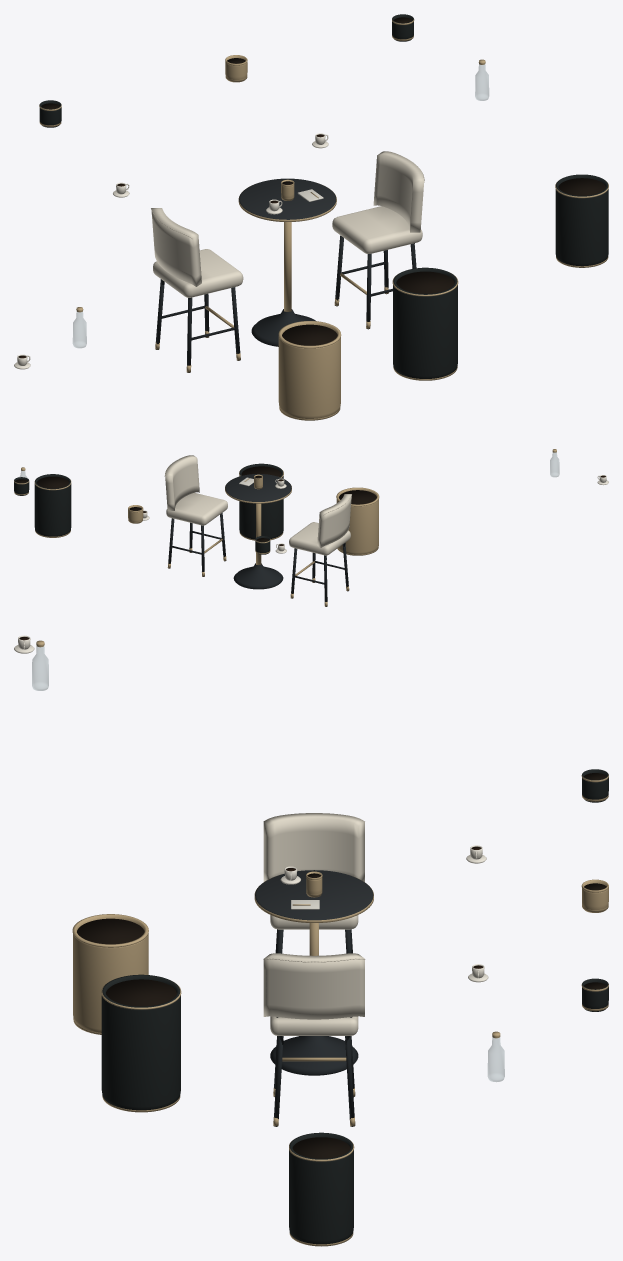
The model's file is projection-interior-details-v8.glb.
The picture shows the model from 3 angles, top to bottom: view 1: azimuth 30°, elevation 25°; view 2: azimuth 150°, elevation 25°; view 3: azimuth 270°, elevation 25°; orthographic projection. The views are drawn at different scales.
Parts seen in each view (by area): view 1: Projection Interior V8 | black satin ceramic planter body, Projection Interior V8 | ivory woven upholstery, Projection Interior V8 | soft satin champagne metal details, Projection Interior V8 | matte black architectural slender s, Projection Interior V8 | dark granular planting soil, Projection Interior V8 | polished black stone tabletop, Projection Interior V8 | clear glass drinking vessels, Projection Interior V8 | warm ivory porcelain cups; view 2: Projection Interior V8 | ivory woven upholstery, Projection Interior V8 | black satin ceramic planter body, Projection Interior V8 | soft satin champagne metal details, Projection Interior V8 | matte black architectural slender s, Projection Interior V8 | polished black stone tabletop, Projection Interior V8 | dark granular planting soil, Projection Interior V8 | warm ivory porcelain cups, Projection Interior V8 | clear glass drinking vessels; view 3: Projection Interior V8 | black satin ceramic planter body, Projection Interior V8 | ivory woven upholstery, Projection Interior V8 | soft satin champagne metal details, Projection Interior V8 | dark granular planting soil, Projection Interior V8 | polished black stone tabletop, Projection Interior V8 | matte black architectural slender s, Projection Interior V8 | clear glass drinking vessels, Projection Interior V8 | warm ivory porcelain cups.
Part boxes in pixels (bbox=[...]): Projection Interior V8 | black satin ceramic planter body: bbox=[39, 14, 608, 378]; Projection Interior V8 | ivory woven upholstery: bbox=[151, 151, 424, 297]; Projection Interior V8 | soft satin champagne metal details: bbox=[39, 19, 608, 420]; Projection Interior V8 | matte black architectural slender s: bbox=[155, 235, 416, 372]; Projection Interior V8 | dark granular planting soil: bbox=[41, 17, 605, 345]; Projection Interior V8 | polished black stone tabletop: bbox=[239, 178, 336, 219]; Projection Interior V8 | clear glass drinking vessels: bbox=[72, 64, 489, 348]; Projection Interior V8 | warm ivory porcelain cups: bbox=[14, 133, 328, 369]; Projection Interior V8 | ivory woven upholstery: bbox=[165, 455, 351, 555]; Projection Interior V8 | black satin ceramic planter body: bbox=[14, 463, 283, 554]; Projection Interior V8 | soft satin champagne metal details: bbox=[14, 449, 556, 606]; Projection Interior V8 | matte black architectural slender s: bbox=[168, 513, 348, 606]; Projection Interior V8 | polished black stone tabletop: bbox=[225, 474, 291, 501]; Projection Interior V8 | dark granular planting soil: bbox=[15, 466, 376, 541]; Projection Interior V8 | warm ivory porcelain cups: bbox=[143, 475, 608, 553]; Projection Interior V8 | clear glass drinking vessels: bbox=[19, 452, 559, 478]; Projection Interior V8 | black satin ceramic planter body: bbox=[101, 769, 608, 1244]; Projection Interior V8 | ivory woven upholstery: bbox=[263, 813, 364, 1035]; Projection Interior V8 | soft satin champagne metal details: bbox=[36, 640, 608, 1246]; Projection Interior V8 | dark granular planting soil: bbox=[77, 773, 606, 1158]; Projection Interior V8 | polished black stone tabletop: bbox=[255, 870, 373, 920]; Projection Interior V8 | matte black architectural slender s: bbox=[270, 929, 358, 1126]; Projection Interior V8 | clear glass drinking vessels: bbox=[32, 646, 504, 1081]; Projection Interior V8 | warm ivory porcelain cups: bbox=[14, 635, 488, 982].
Bounding box in the file's own units: 5.56 × 1.38 × 3.3.
